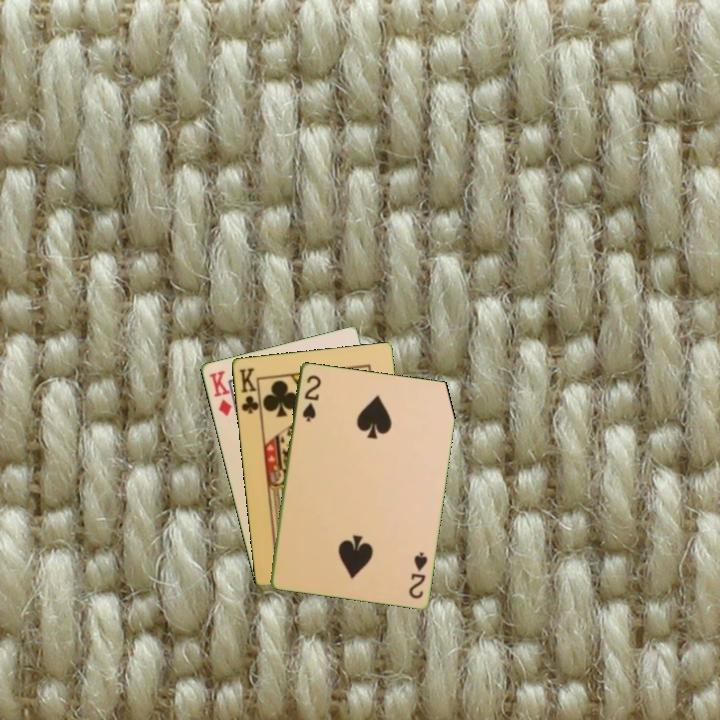2s: (405, 548, 430, 601), (299, 371, 323, 424)
Kc: (235, 364, 263, 418)
Kd: (205, 367, 234, 419)
